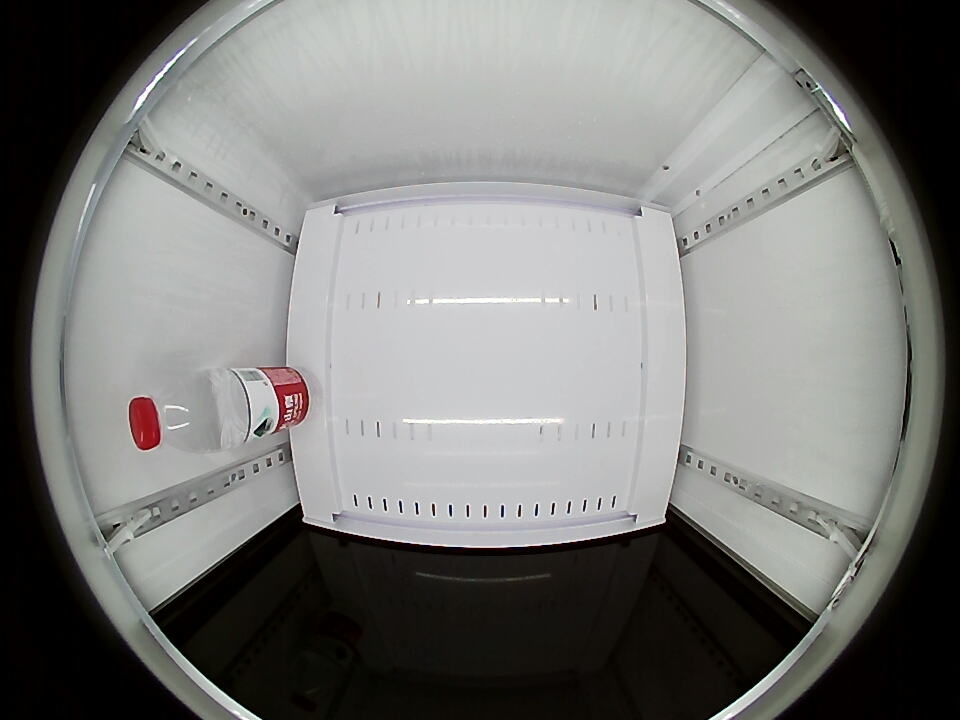nongfushanquan: (128, 371, 229, 453)
